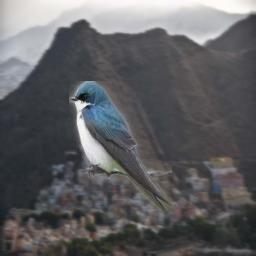Swallow: (69, 81, 172, 211)
